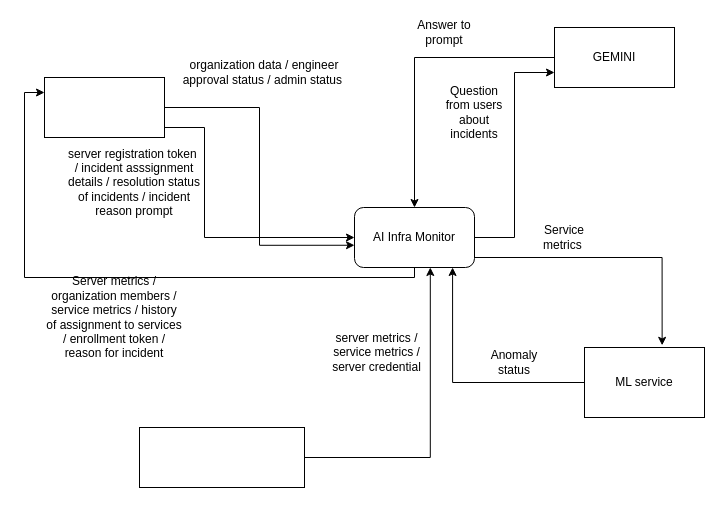
The diagram is 722 pixels wide and 505 high, and some of its shapes have lost their labels. The shapes that lost their labels are listed below. From the top down, each one's centre as x and y in pixels, then its label:
the point at 104,107: User
the point at 221,457: Servers
